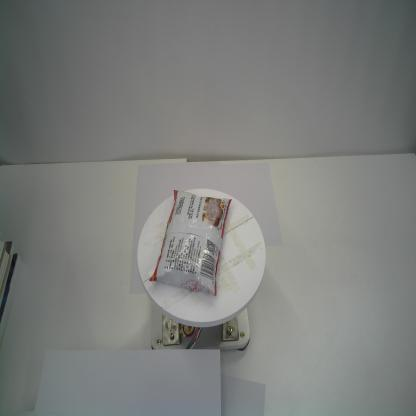Seasoner: (148, 186, 233, 300)
